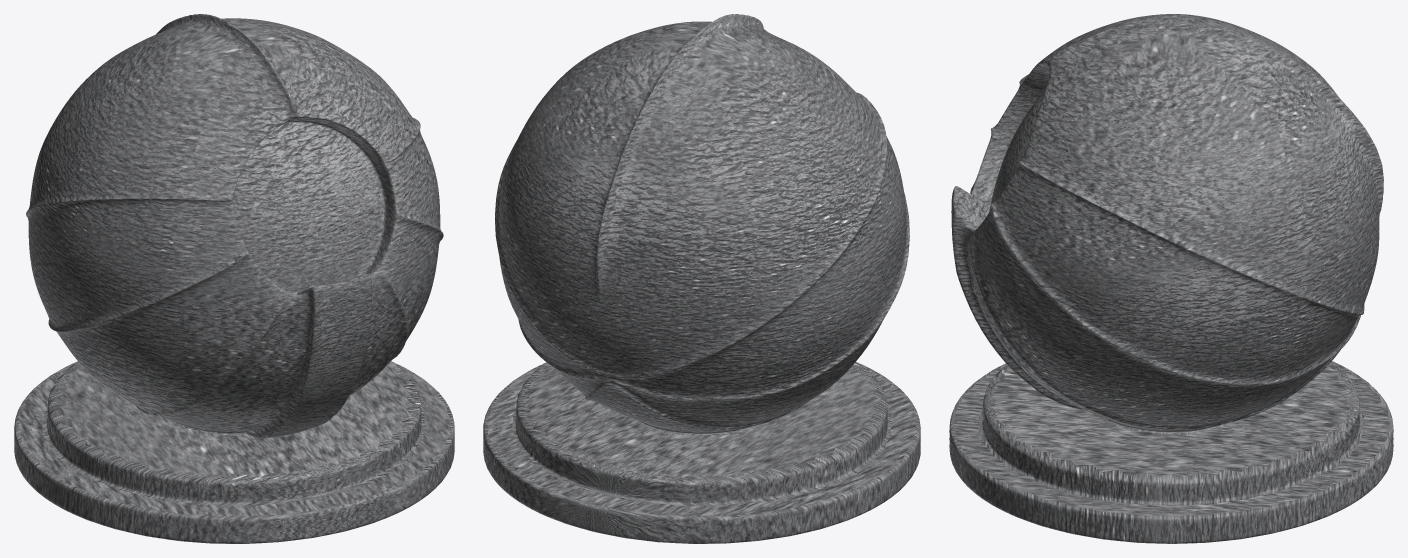
The model's file is Sphere_Metal.fbx.
3 views of the same model, side by side, from view 1: azimuth 30°, elevation 25°; view 2: azimuth 150°, elevation 25°; view 3: azimuth 270°, elevation 25° (orthographic).
Parts seen in each view (by area): view 1: Cylinder.004; view 2: Cylinder.004; view 3: Cylinder.004.
Boxes of the visible parts, bbox=[...] form: Cylinder.004: bbox=[14, 14, 454, 543]; Cylinder.004: bbox=[483, 14, 920, 543]; Cylinder.004: bbox=[949, 14, 1393, 543].
Size of the model in its own units: 1.97 by 2.1 by 1.97.
1 material, 1 textured.
